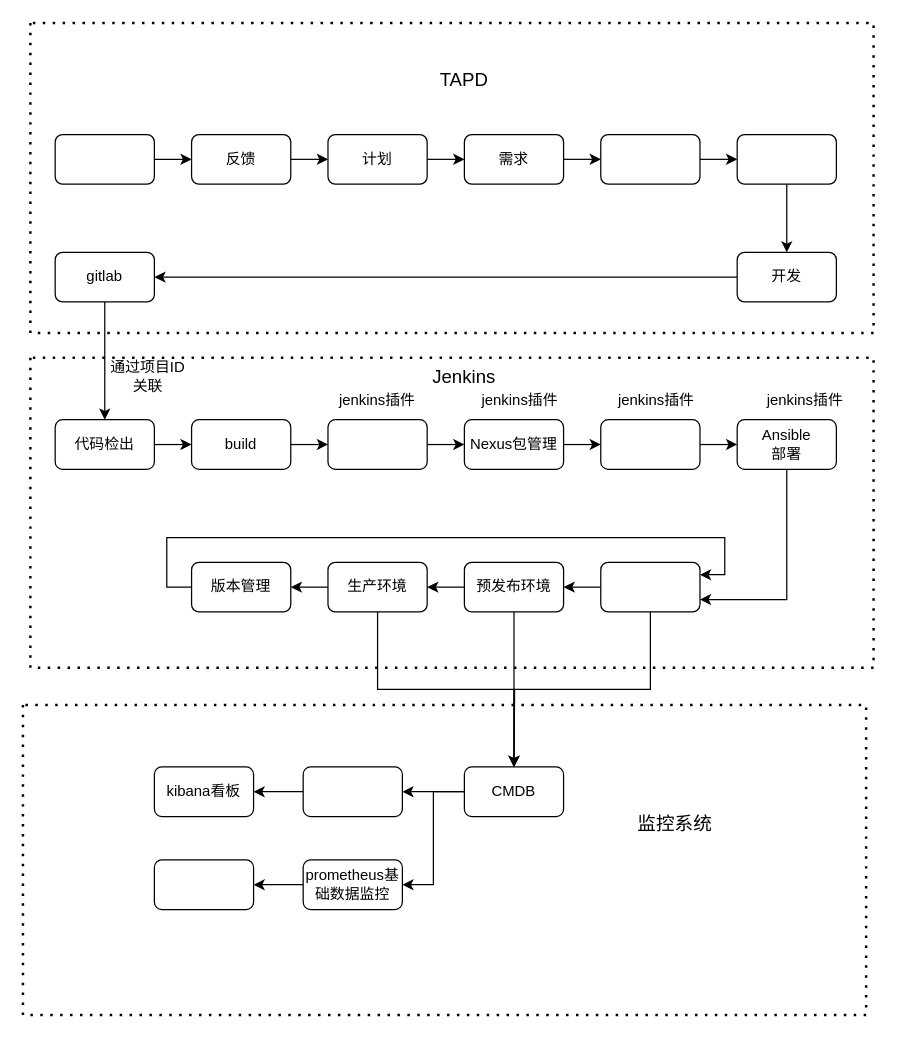
This 897x1038 diagram has some shape labels left out. Each missing label, with the centre of its shape:
"backlog" goes at [650,158].
"ELK日志监控" goes at [352,791].
"granfna看板" goes at [203,884].
"Junit/Jmeter自动化测试" goes at [650,443].
"sonar代码检测" goes at [377,443].
"测试环境" goes at [650,586].
"用户" goes at [104,158].
"迭代" goes at [786,158].
